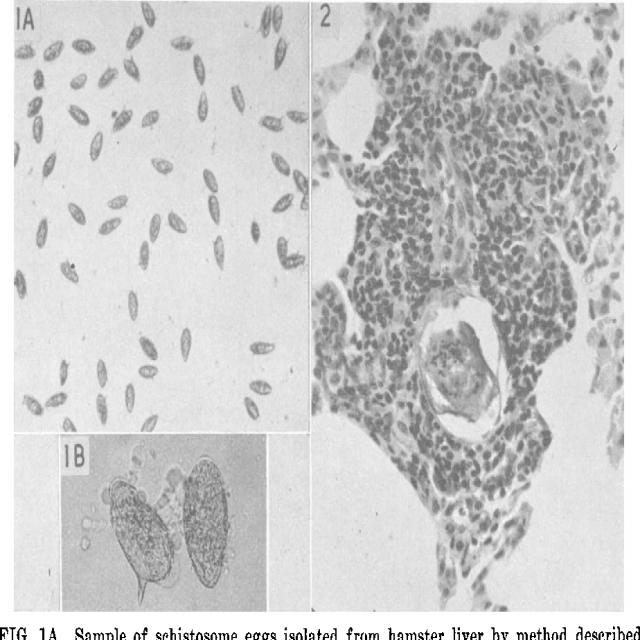Schistosoma: (104, 473, 172, 609), (175, 449, 234, 599)
